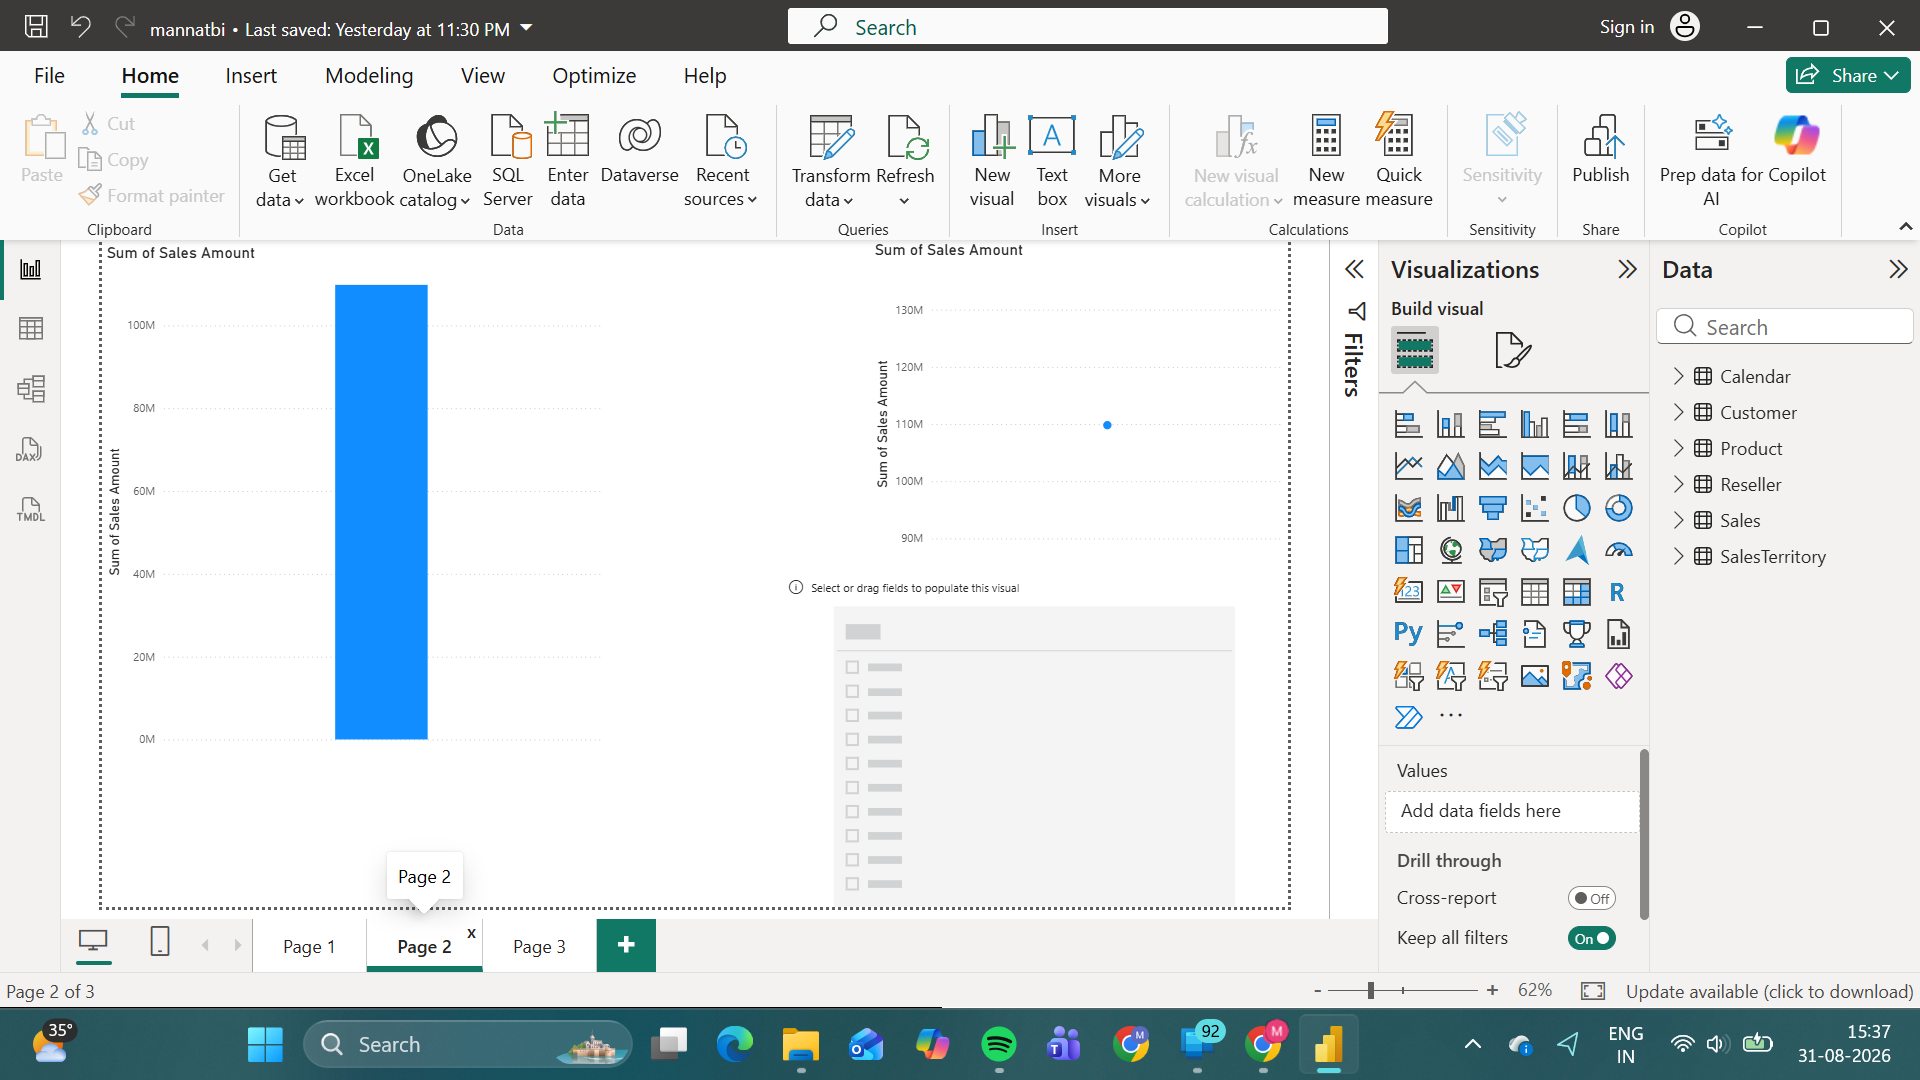

The page's visual inventory and layout, read from the dashboard file:
{"tool":"powerbi","page":{"name":"Page 2","canvas":[1280,720],"ordinal":1},"visuals":[{"type":"clusteredColumnChart","fields":{"Y":["Sum(Sales.Sales Amount)"]},"box":[0,3.8,546.1,549.9],"z":0},{"type":"lineChart","fields":{"Y":["Sum(Sales.Sales Amount)"]},"box":[829.6,0,449.8,359.1],"z":1000},{"type":"slicer","box":[733.2,359.1,546.1,360.9],"z":2000}]}

Visuals, with their boxes on the page's 1280x720 design canvas (x1, y1, x2, y2). These are canvas units, not pixel positions in the 1920x1080 screenshot, which may show the page scaled, cropped or inside an application window:
clusteredColumnChart - Sum(Sales.Sales Amount): [0,4,546,554]
lineChart - Sum(Sales.Sales Amount): [830,0,1279,359]
slicer: [733,359,1279,720]
